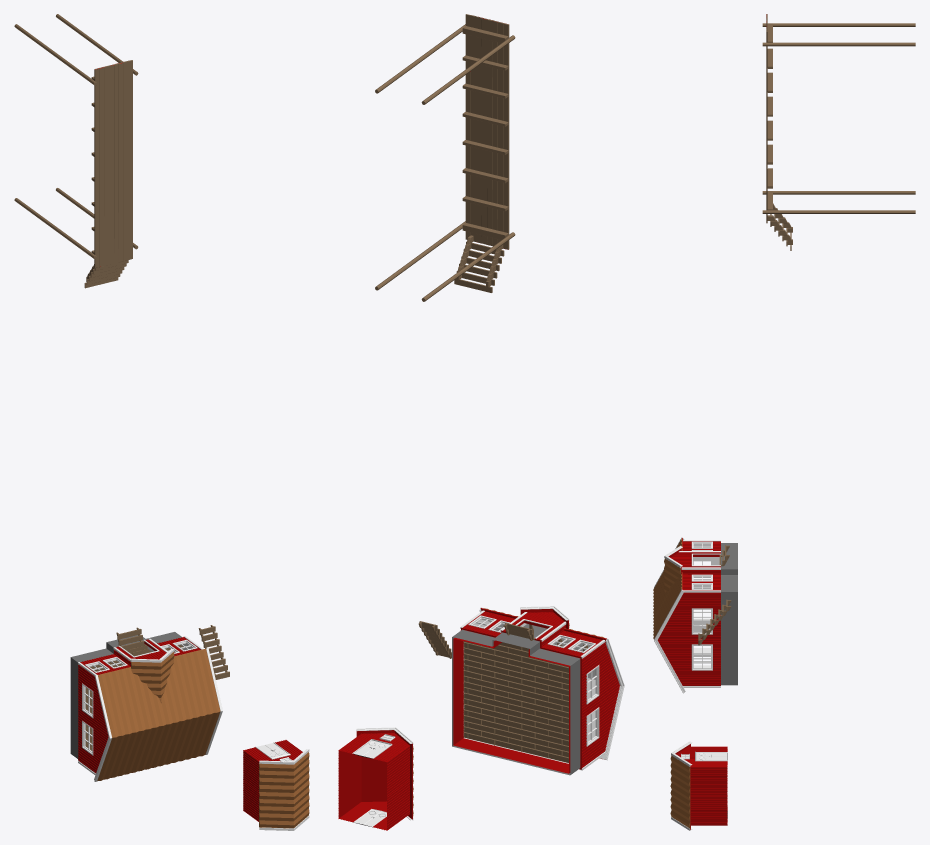
File: Buildings_0.glb
3 views of the same model, side by side, from view 1: azimuth 30°, elevation 25°; view 2: azimuth 150°, elevation 25°; view 3: azimuth 270°, elevation 25° (orthographic). The views are drawn at different scales.
Parts seen in each view (by area): view 1: Buildings_0; view 2: Buildings_0; view 3: Buildings_0.
Part boxes in pixels (<box>): Buildings_0: <box>14,14,309,830</box>; Buildings_0: <box>338,14,624,830</box>; Buildings_0: <box>653,14,915,830</box>.
Bounding box in the file's own units: 18.38 × 61.38 × 19.88.
Materials: 1 (1 with a texture image).
